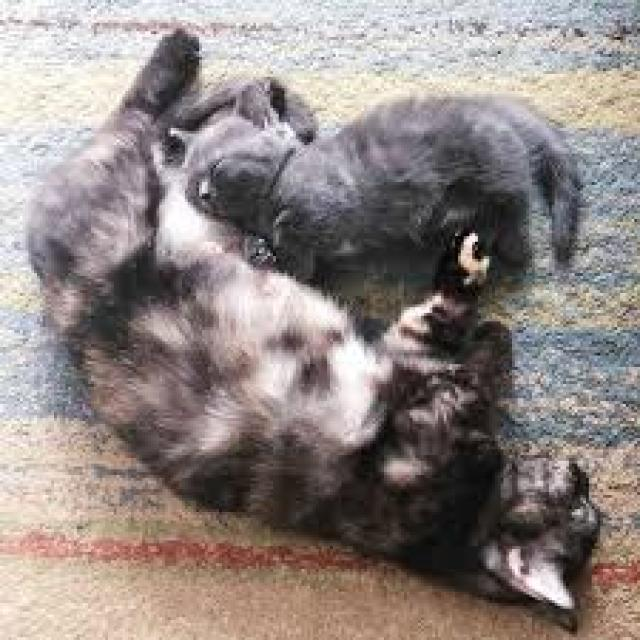Cat: (23, 24, 604, 639), (166, 79, 584, 298)
